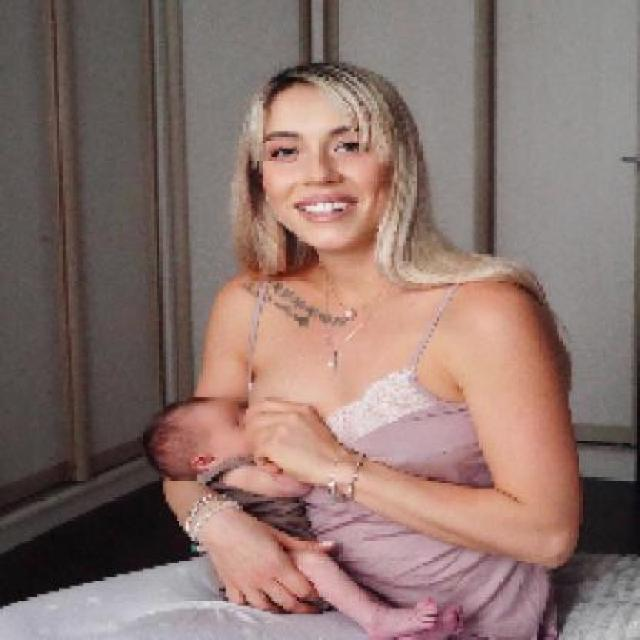child: (140, 394, 466, 637)
